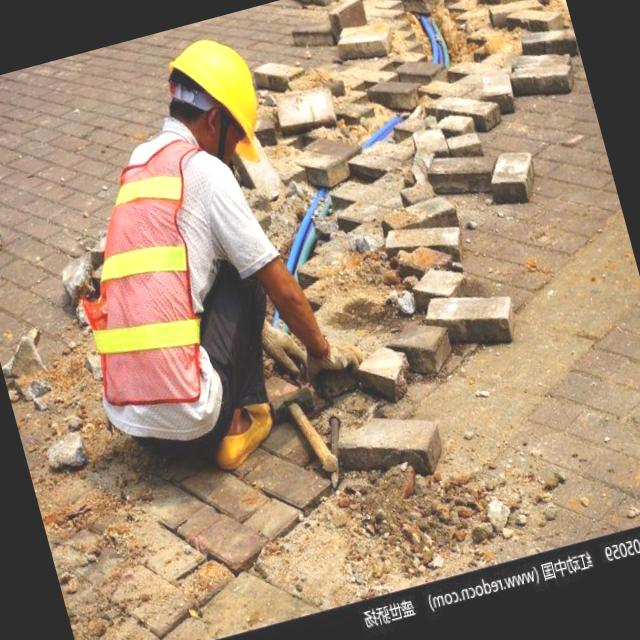helmet: (158, 23, 280, 184)
vest: (42, 130, 274, 434)
